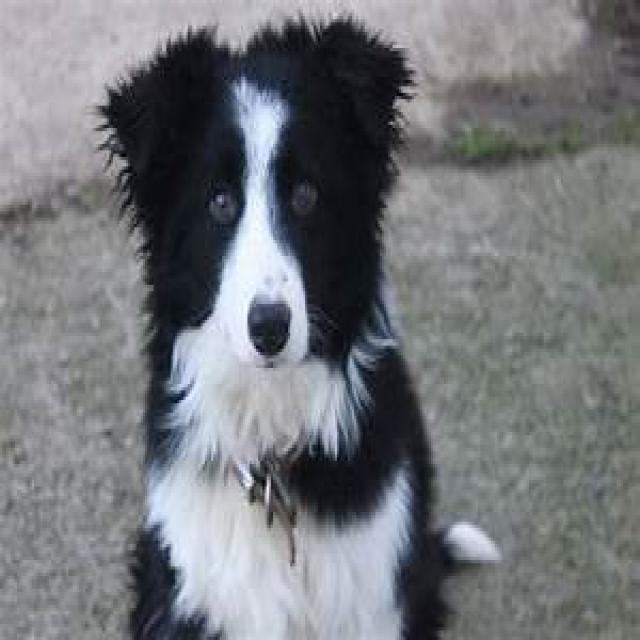dog: (100, 19, 440, 638)
